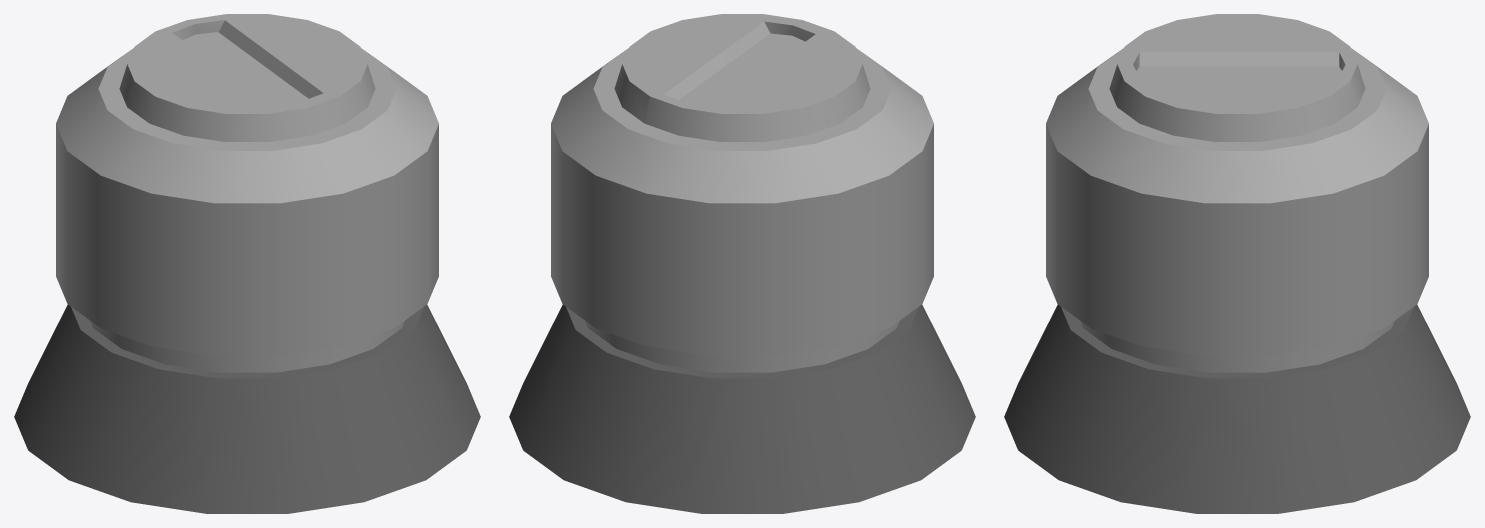
The model's file is Roof_Opening_Cylinder.obj.
3 views of the same model, side by side, from view 1: azimuth 30°, elevation 25°; view 2: azimuth 150°, elevation 25°; view 3: azimuth 270°, elevation 25° (orthographic).
Visible parts, largest first — view 1: Roof_Opening_Cylinder.001; view 2: Roof_Opening_Cylinder.001; view 3: Roof_Opening_Cylinder.001.
Part boxes in pixels (<box>): Roof_Opening_Cylinder.001: <box>14,14,480,513</box>; Roof_Opening_Cylinder.001: <box>509,14,975,513</box>; Roof_Opening_Cylinder.001: <box>1004,14,1470,513</box>.
Size of the model in its own units: 1.41 by 1.2 by 1.43.
